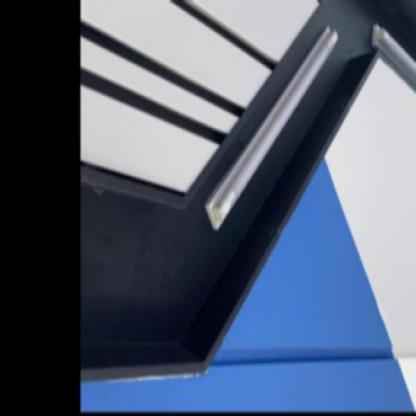light_off: (202, 13, 344, 245), (368, 11, 416, 207)
